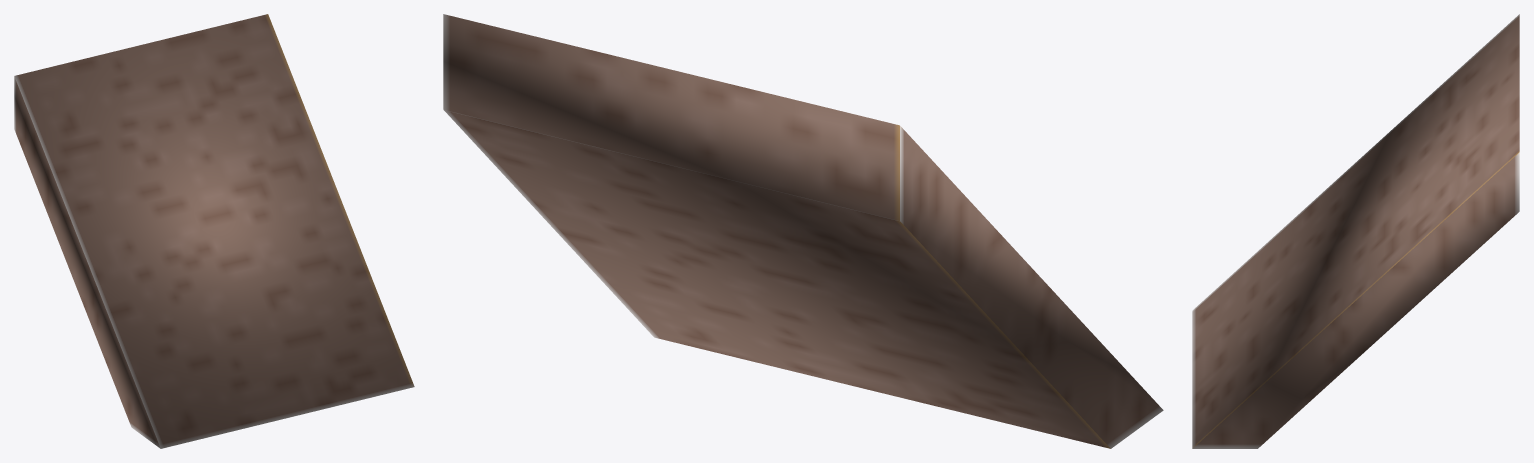
Rendered from rampabarcopersadef.fbx.
3 renders of one model, left to right at view 1: azimuth 30°, elevation 25°; view 2: azimuth 150°, elevation 25°; view 3: azimuth 270°, elevation 25°, orthographic. The views are drawn at different scales.
Visible parts, largest first — view 1: Cube.001; view 2: Cube.001; view 3: Cube.001.
Part boxes in pixels (x1=…): Cube.001: x1=14, y1=14, x2=414, y2=448; Cube.001: x1=443, y1=14, x2=1163, y2=448; Cube.001: x1=1192, y1=14, x2=1519, y2=448.
Bounding box in the file's own units: 1 × 1 × 1.
1 material, 1 textured.
